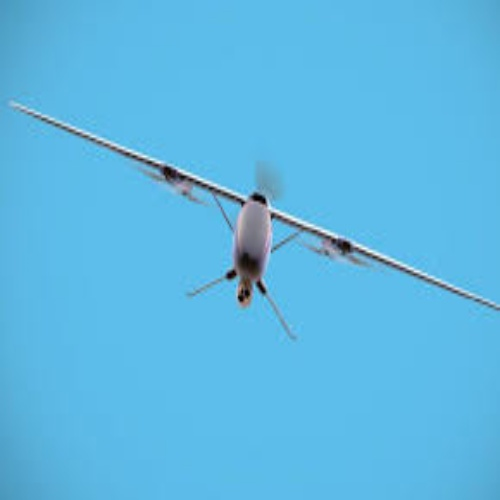uav747: (4, 99, 500, 342)
